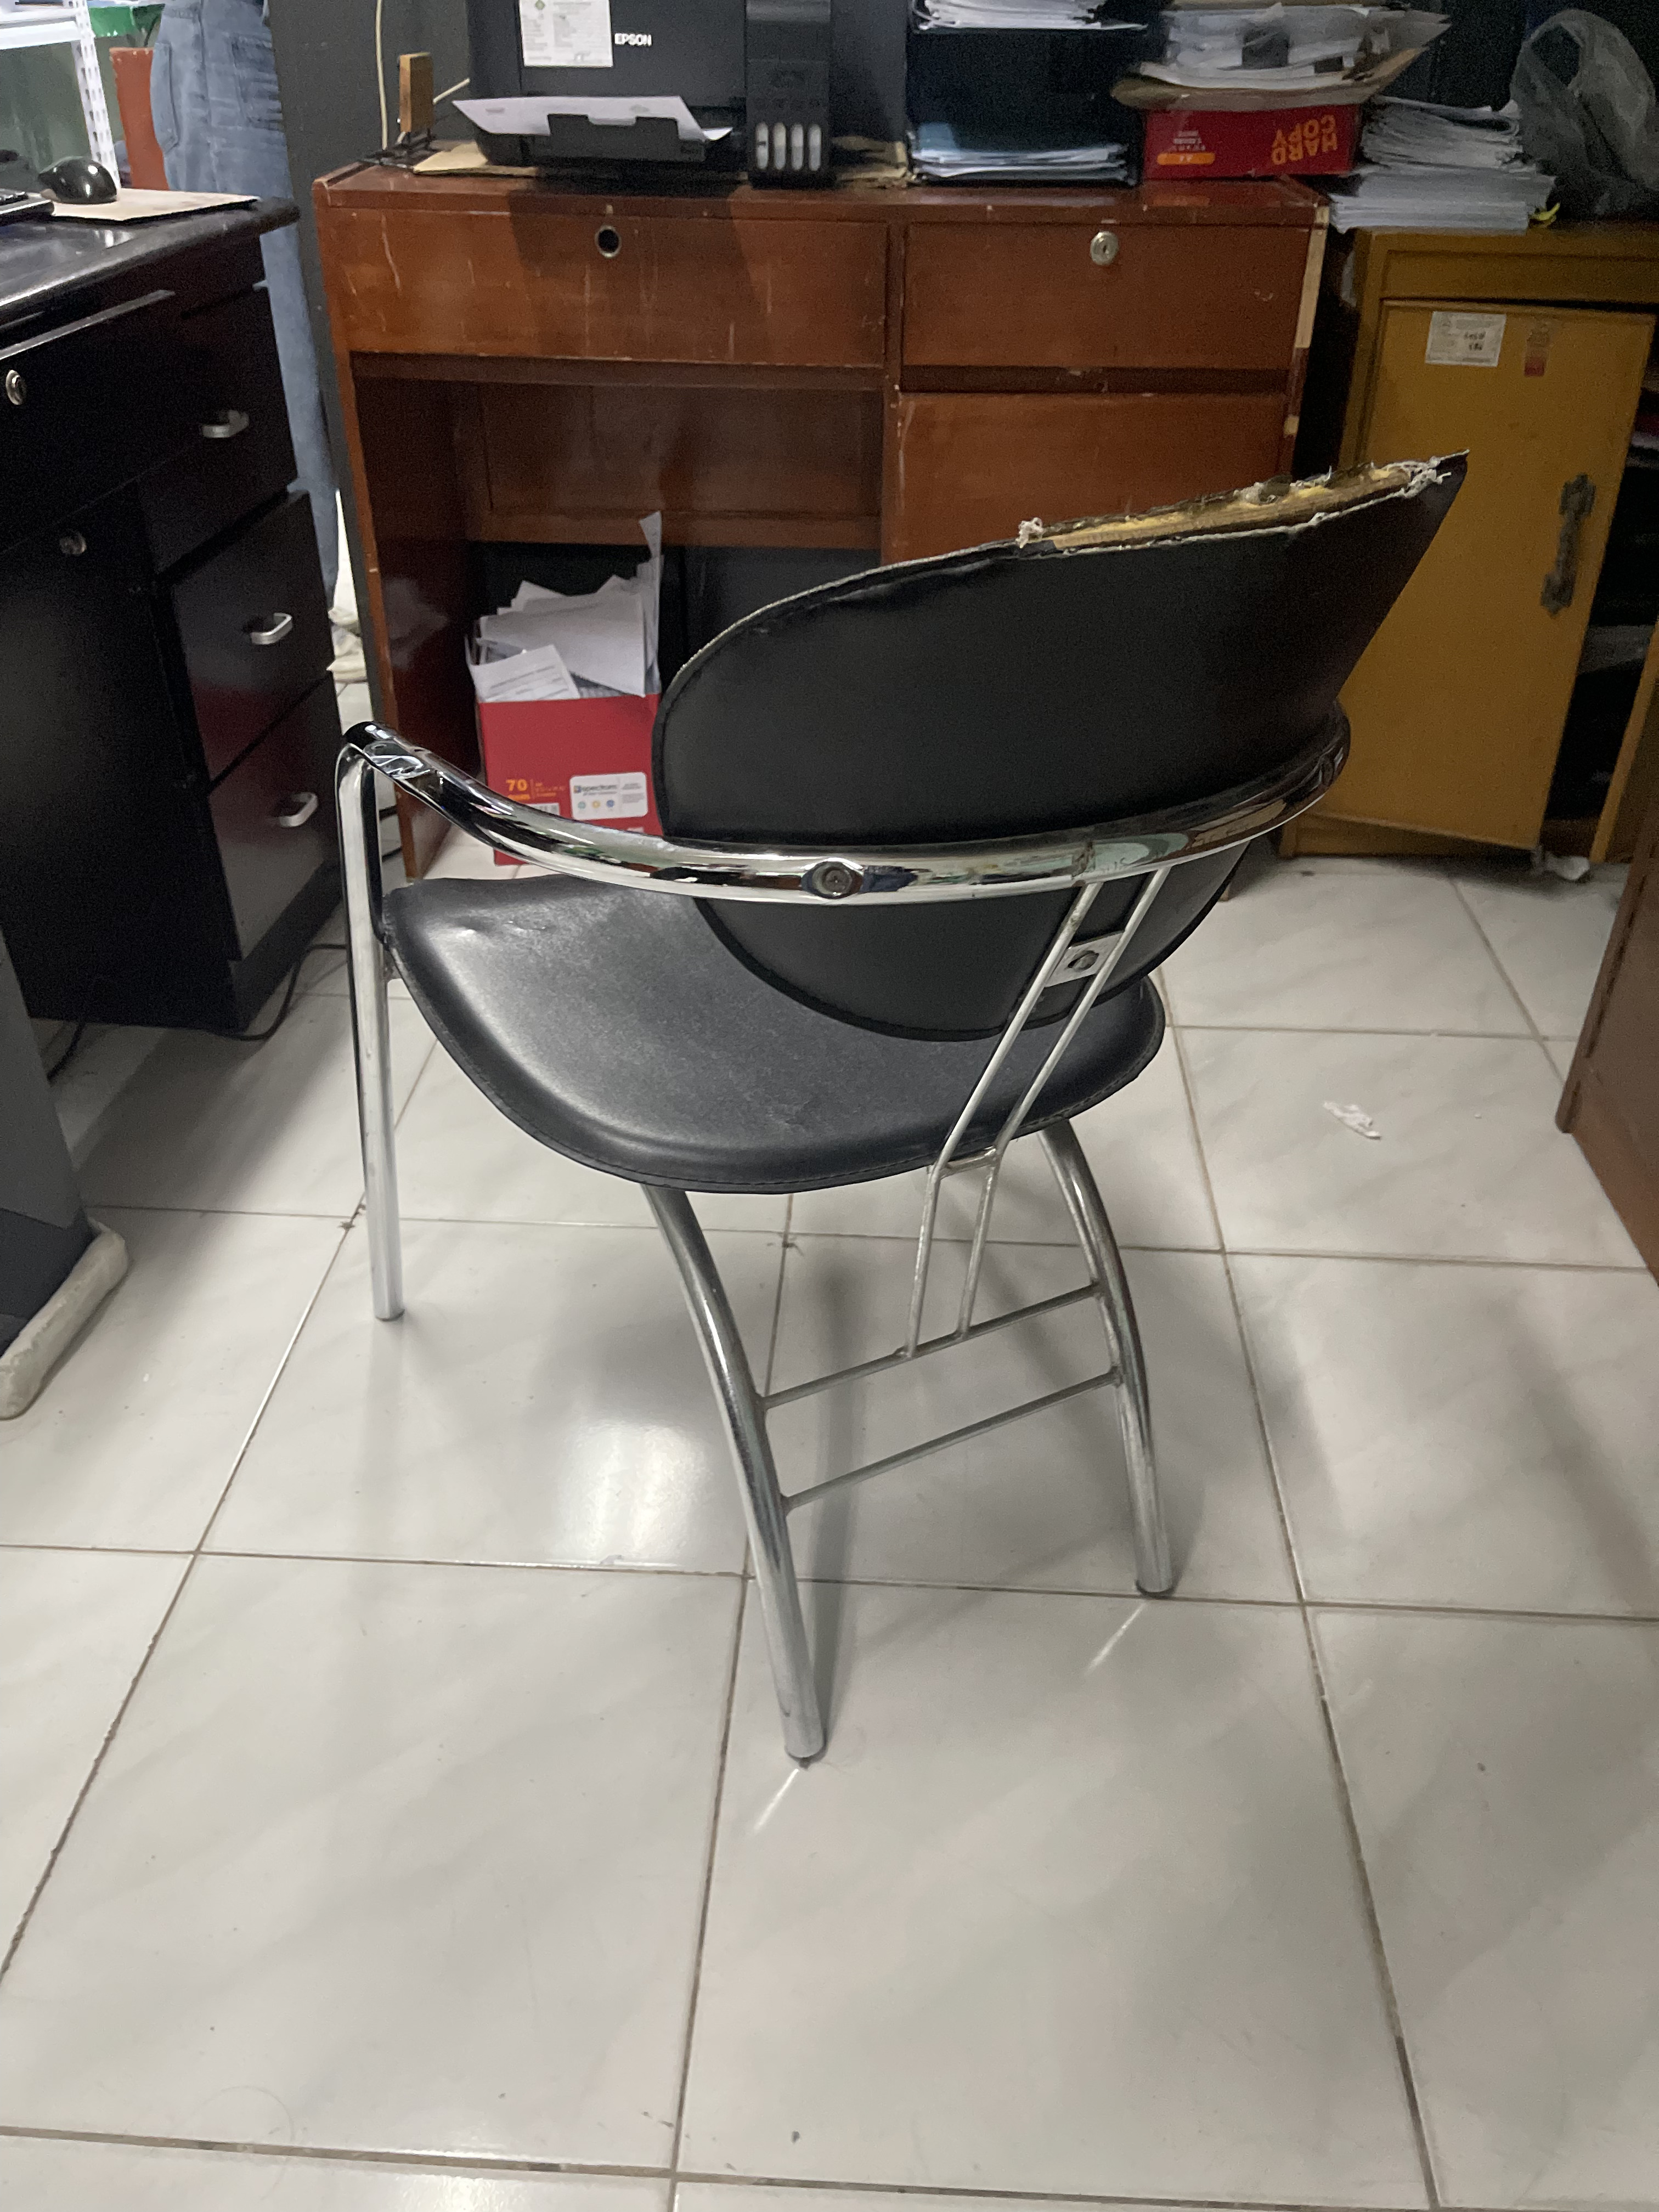chair1: (328, 441, 1476, 1778)
